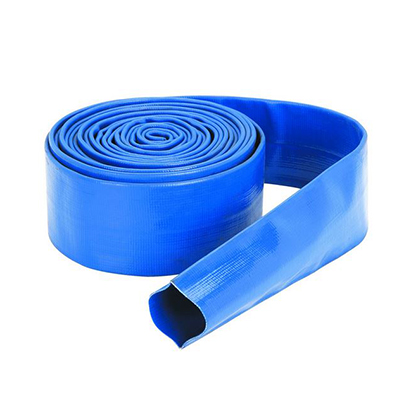Nonrec_Tangler: (25, 75, 370, 343)
